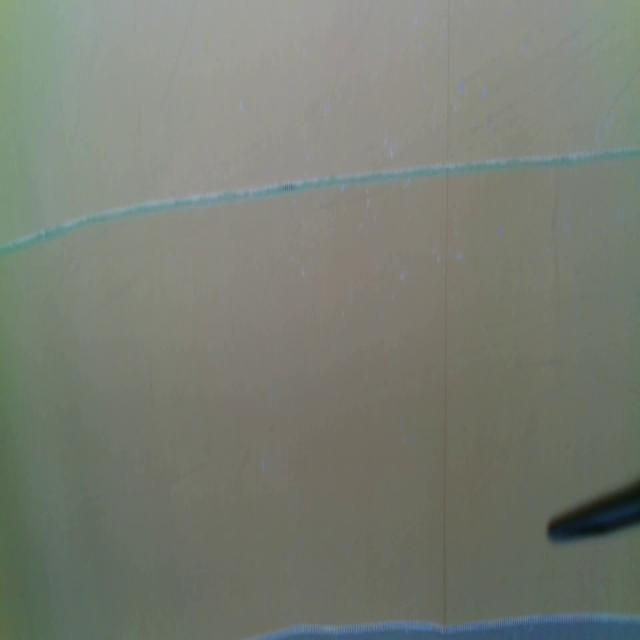crease: (439, 0, 453, 626)
